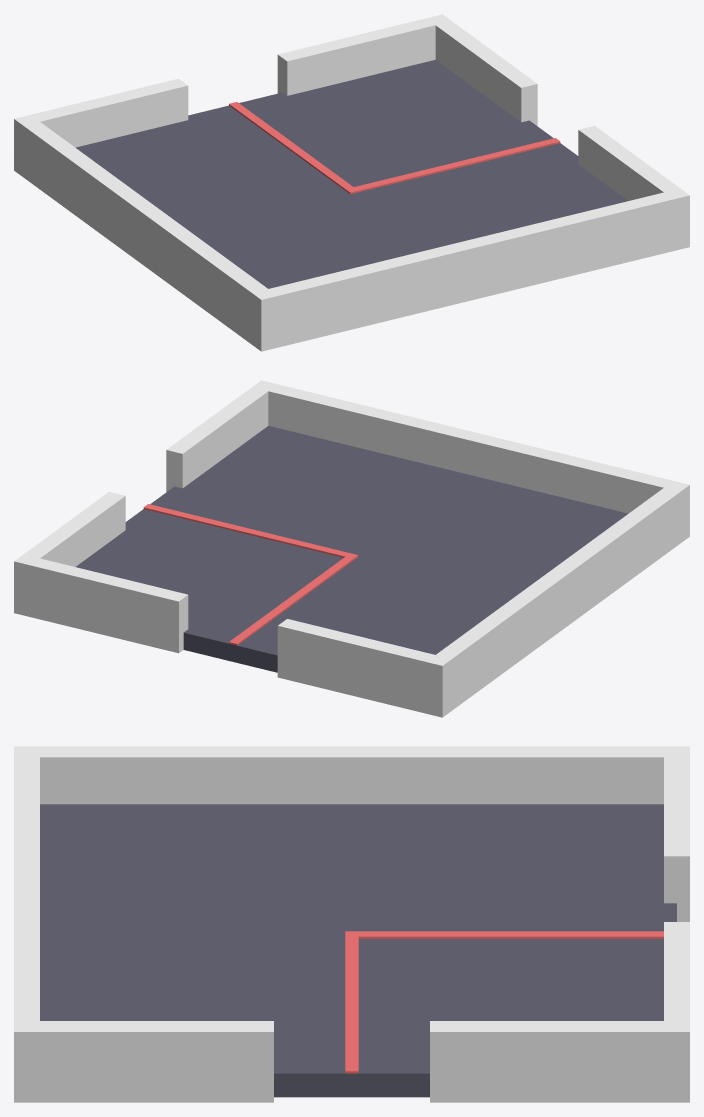
The model's file is Pattern_L.fbx.
3 renders of one model, top to bottom at view 1: azimuth 30°, elevation 25°; view 2: azimuth 150°, elevation 25°; view 3: azimuth 270°, elevation 25°, orthographic. The views are drawn at different scales.
Parts seen in each view (by area): view 1: Pattern_L; view 2: Pattern_L; view 3: Pattern_L.
Part boxes in pixels (box(x1,y1,x2,y2)): Pattern_L: box(14, 14, 689, 351); Pattern_L: box(14, 380, 689, 717); Pattern_L: box(14, 746, 689, 1102).
Bounding box in the file's own units: 26 × 3 × 26.
